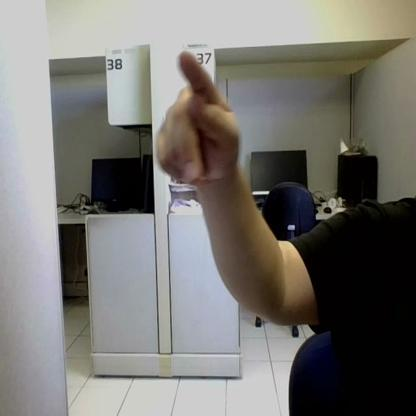P: (157, 52, 240, 187)
